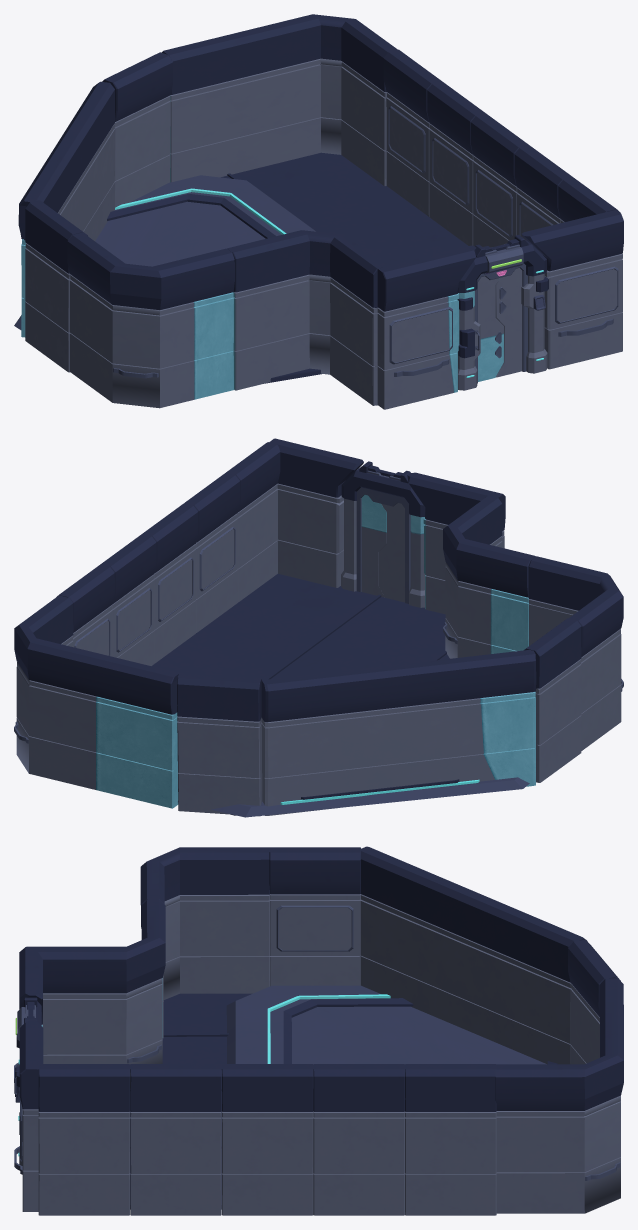
The model's file is cockpitarea.fbx.
3 views of the same model, one above another, from view 1: azimuth 30°, elevation 25°; view 2: azimuth 150°, elevation 25°; view 3: azimuth 270°, elevation 25° (orthographic). The views are drawn at different scales.
Parts seen in each view (by area): view 1: polySurface2689, polySurface2679, polySurface2681, polySurface2676, doorframeL, doorframeR, polySurface2674, polySurface2694, polySurface2691, doorframe, polySurface2682, polySurface2698 (+8 smaller); view 2: polySurface2694, polySurface2689, polySurface2676, polySurface2691, polySurface2681, polySurface2679, doorframeR, polySurface2682, doorframe, polySurface2696, polySurface2697, polySurface2695 (+8 smaller); view 3: polySurface2694, polySurface2689, polySurface2679, polySurface2674, polySurface2681, polySurface2697, polySurface2696, polySurface2698, polySurface2695, polySurface2699, polySurface2682, polySurface2676 (+7 smaller).
Boxes of the visible parts, x1,y1,x2,y2 form: polySurface2689: [162, 14, 397, 185]; polySurface2679: [67, 232, 234, 408]; polySurface2681: [227, 230, 386, 405]; polySurface2676: [221, 152, 467, 405]; doorframeL: [377, 245, 476, 409]; doorframeR: [521, 210, 623, 369]; polySurface2674: [14, 175, 315, 329]; polySurface2694: [18, 81, 114, 337]; polySurface2691: [102, 52, 172, 207]; doorframe: [457, 235, 548, 390]; polySurface2682: [25, 200, 87, 372]; polySurface2698: [427, 81, 485, 245]; polySurface2694: [261, 650, 536, 815]; polySurface2689: [14, 595, 179, 808]; polySurface2676: [151, 573, 449, 815]; polySurface2691: [177, 673, 262, 816]; polySurface2681: [443, 495, 535, 658]; polySurface2679: [528, 556, 623, 750]; doorframeR: [269, 438, 363, 587]; polySurface2682: [524, 618, 581, 782]; doorframe: [341, 461, 425, 607]; polySurface2696: [184, 472, 240, 632]; polySurface2697: [142, 503, 198, 663]; polySurface2695: [226, 442, 280, 602]; polySurface2694: [360, 846, 587, 1064]; polySurface2689: [495, 978, 623, 1213]; polySurface2679: [140, 847, 269, 1038]; polySurface2674: [226, 985, 546, 1064]; polySurface2681: [36, 899, 165, 1088]; polySurface2697: [221, 1064, 313, 1215]; polySurface2696: [130, 1064, 221, 1215]; polySurface2698: [313, 1064, 404, 1215]; polySurface2695: [38, 1064, 129, 1215]; polySurface2699: [405, 1064, 496, 1215]; polySurface2682: [269, 847, 360, 986]; polySurface2676: [130, 993, 252, 1209].
Bounding box in the file's own units: 241 × 71.53 × 273.
